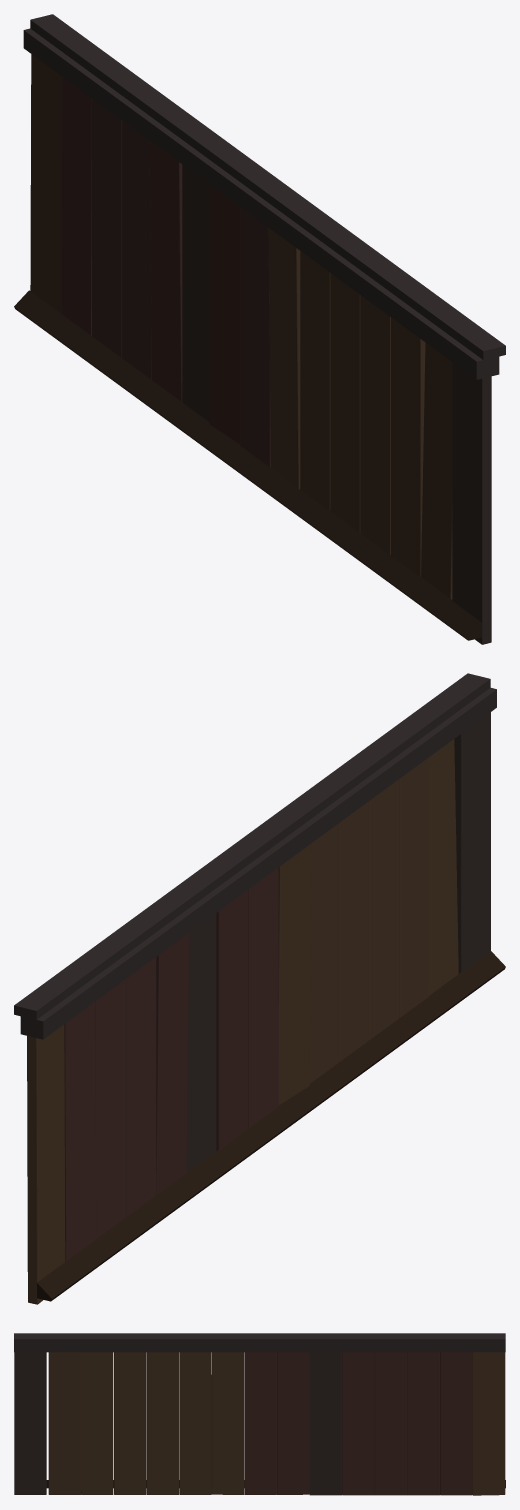
The model's file is BasePared1.fbx.
3 views of the same model, one above another, from view 1: azimuth 30°, elevation 25°; view 2: azimuth 150°, elevation 25°; view 3: azimuth 270°, elevation 25° (orthographic). The views are drawn at different scales.
Visible parts, largest first — view 1: BasePared; view 2: BasePared; view 3: BasePared.
Boxes of the visible parts, x1=… form: BasePared: x1=14, y1=14, x2=505, y2=644; BasePared: x1=14, y1=673, x2=505, y2=1304; BasePared: x1=14, y1=1333, x2=505, y2=1495.
Size of the model in its own units: 16.05 by 117 by 328.
